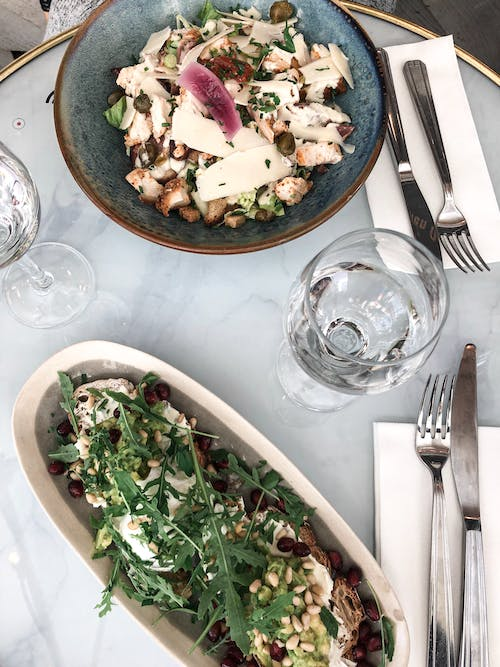knife: (372, 46, 446, 270), (448, 343, 494, 667)
